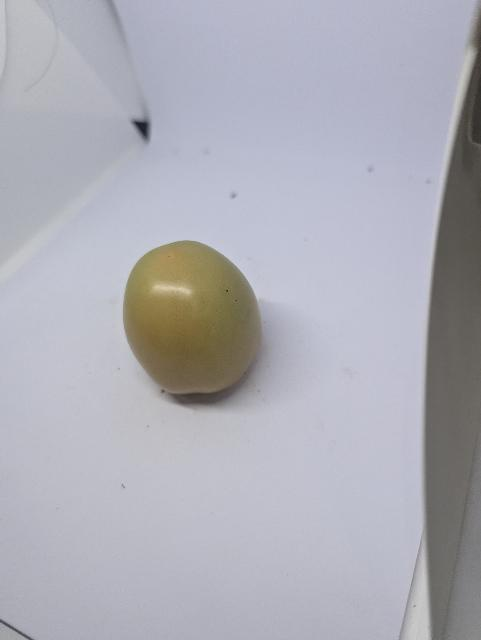breaker: (117, 236, 276, 400)
